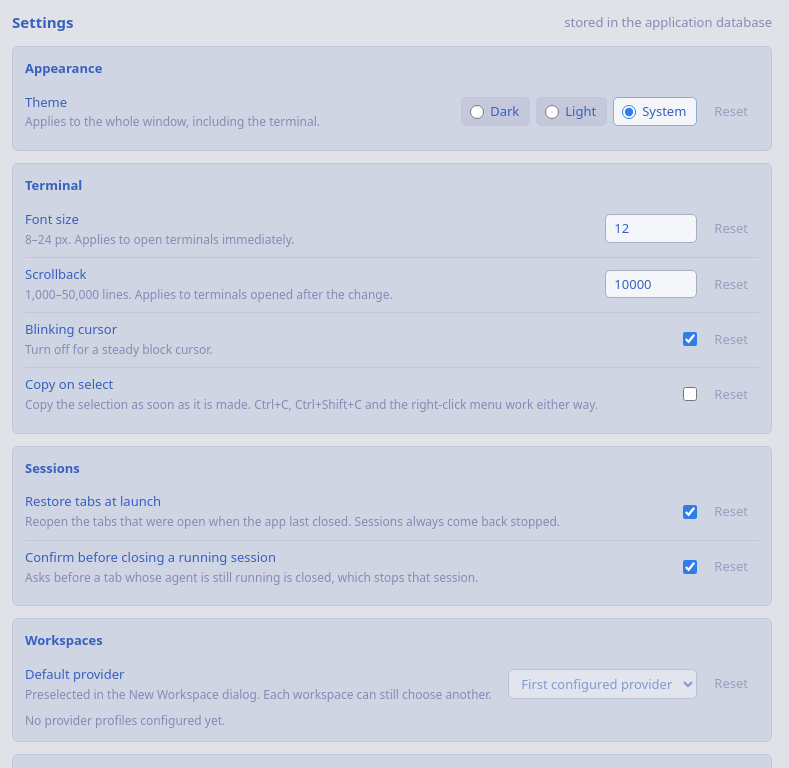
SettingsPanel: writing a setting › clamps a number outside the range instead of writing it through
Expected: the text "stored in the application database" is shown, [564,14,772,32]
Replace the text in the number field named "Font size in pixels" with "900" at (651, 229), box [605,214,697,243]
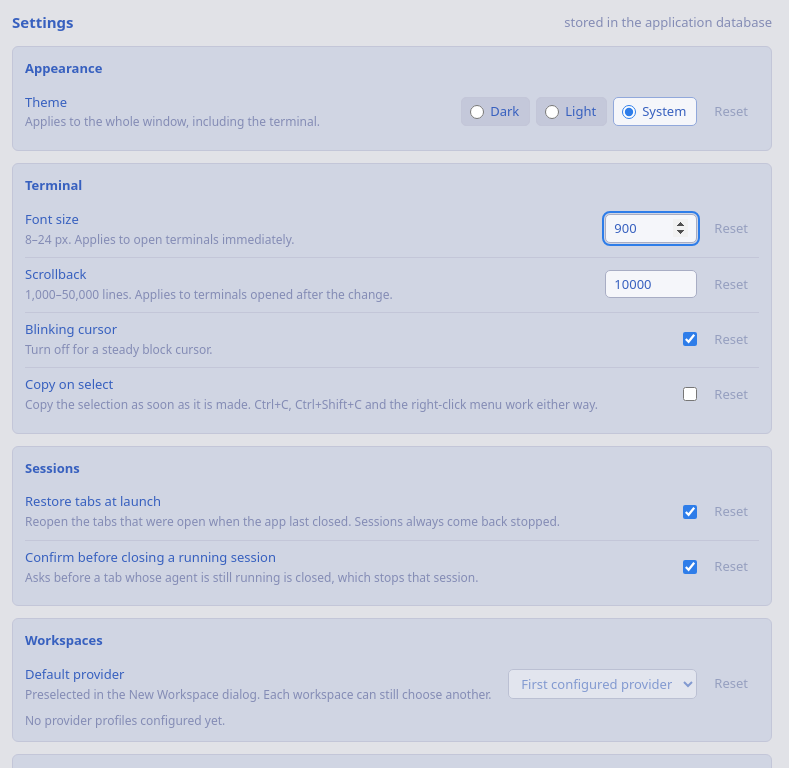
Press Enter
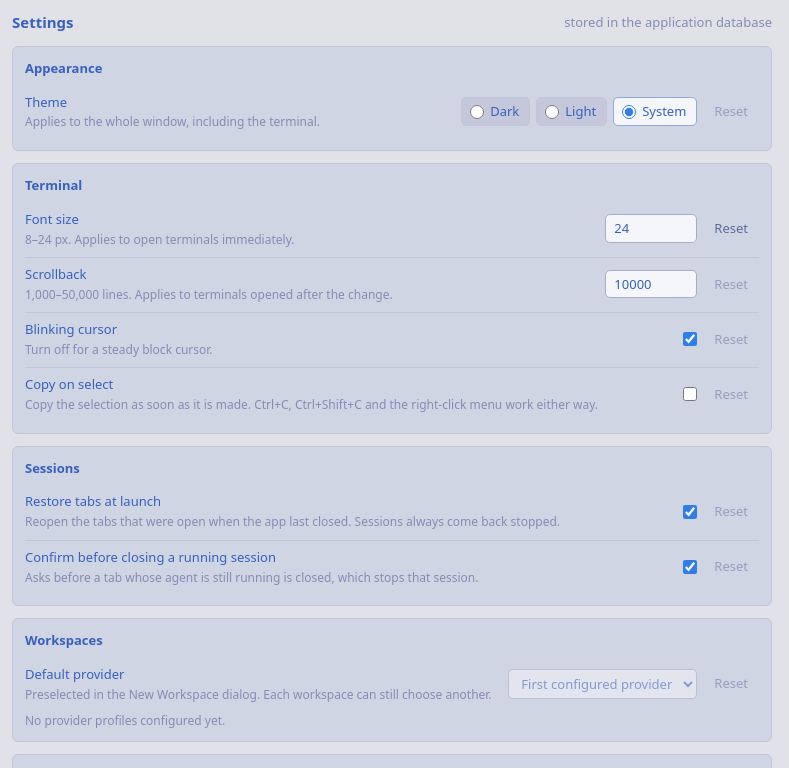
Expected: the number field named "Font size in pixels" holds "24", [605,214,697,243]
